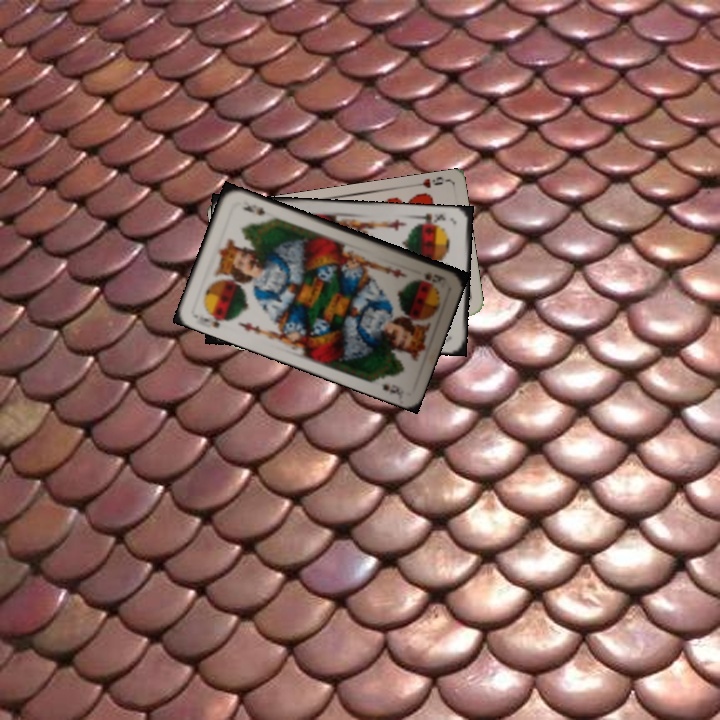H9: (418, 174, 445, 190)
SK: (199, 308, 232, 331), (415, 210, 448, 228), (420, 270, 449, 285)
